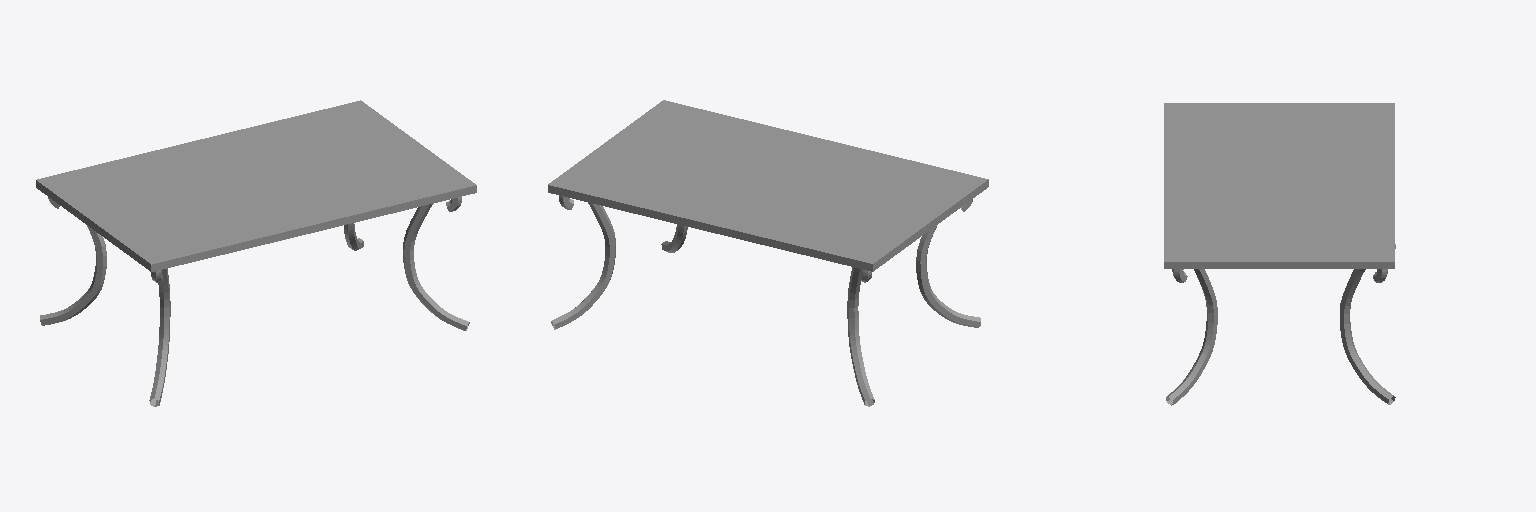
Rendered from woodTable.obj.
3 views of the same model, side by side, from view 1: azimuth 30°, elevation 25°; view 2: azimuth 150°, elevation 25°; view 3: azimuth 270°, elevation 25° (orthographic).
Parts seen in each view (by area): view 1: Cube_1.005, Tube_2-mirror_1, Tube_2-mirror, Tube_2-mirror-mirror; view 2: Cube_1.005, Tube_2, Tube_2-mirror-mirror, Tube_2-mirror; view 3: Cube_1.005, Tube_2-mirror_1, Tube_2.
Boxes of the visible parts, x1=… form: Cube_1.005: x1=36, y1=100, x2=476, y2=271; Tube_2-mirror_1: x1=403, y1=197, x2=469, y2=330; Tube_2-mirror: x1=149, y1=268, x2=170, y2=406; Tube_2-mirror-mirror: x1=40, y1=197, x2=106, y2=325; Cube_1.005: x1=548, y1=100, x2=988, y2=271; Tube_2: x1=551, y1=195, x2=615, y2=329; Tube_2-mirror-mirror: x1=847, y1=267, x2=874, y2=406; Tube_2-mirror: x1=916, y1=199, x2=980, y2=327; Cube_1.005: x1=1164, y1=103, x2=1394, y2=268; Tube_2-mirror_1: x1=1166, y1=269, x2=1217, y2=405; Tube_2: x1=1340, y1=269, x2=1395, y2=404.
Size of the model in its own units: 26.15 by 11.32 by 16.2.